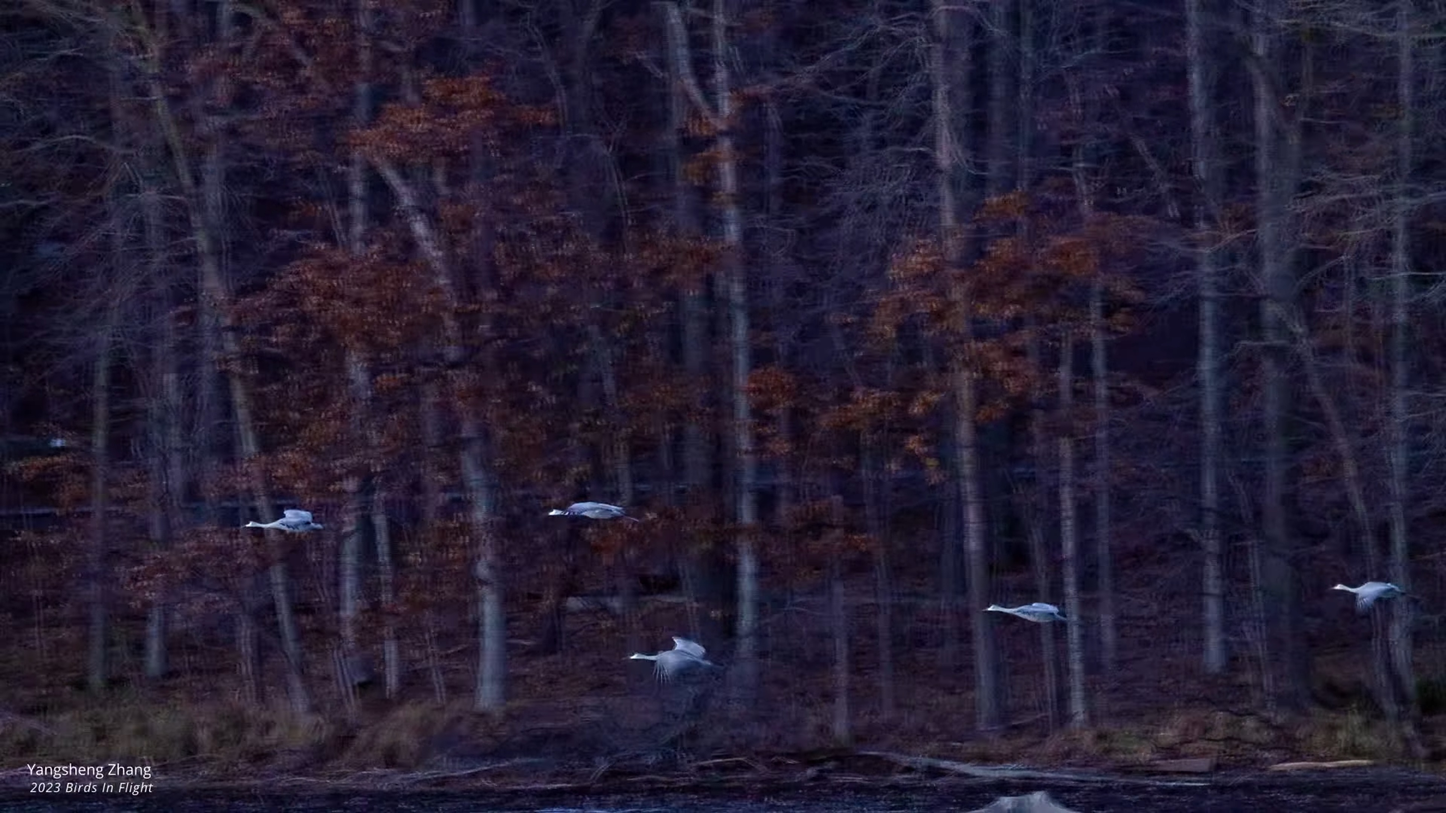not_drone: (605, 633, 715, 687), (535, 495, 641, 530), (979, 588, 1073, 626), (226, 505, 328, 537), (1330, 569, 1402, 612)
